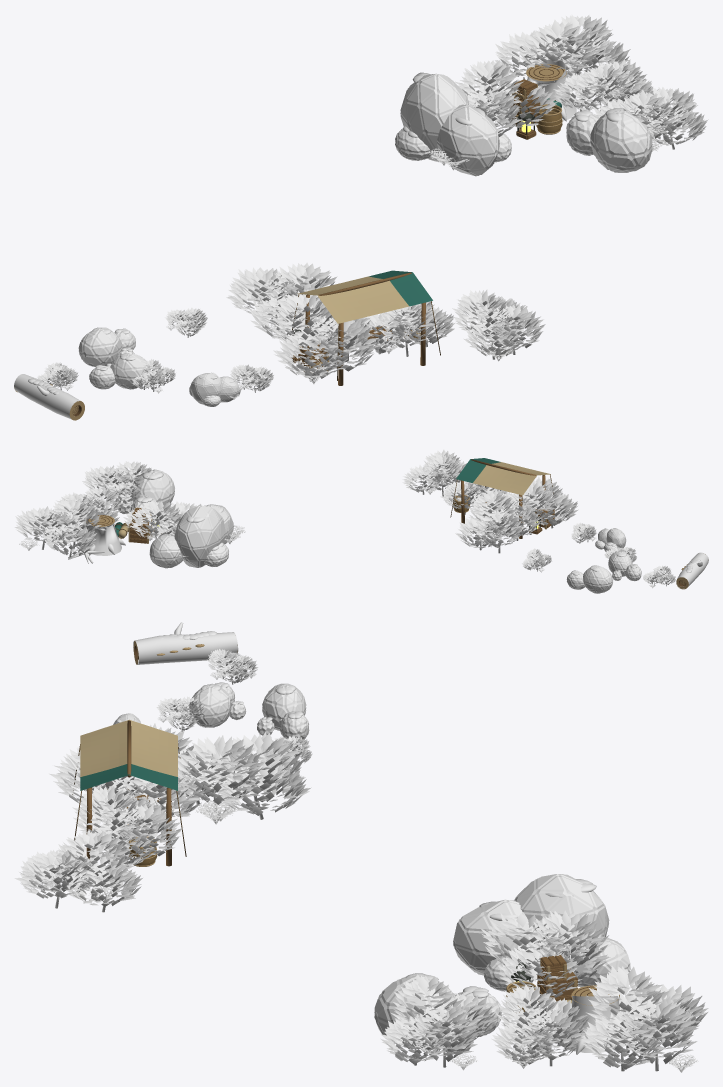
The model's file is SM_DF_Explorer_2_1_Macro.fbx.
The picture shows the model from 3 angles, top to bottom: view 1: azimuth 30°, elevation 25°; view 2: azimuth 150°, elevation 25°; view 3: azimuth 270°, elevation 25°; orthographic projection. The views are drawn at different scales.
Parts seen in each view (by area): view 1: SM_DF_Explorer_2_1_Macro; view 2: SM_DF_Explorer_2_1_Macro; view 3: SM_DF_Explorer_2_1_Macro.
Part boxes in pixels (x1,y1,x2,y2): SM_DF_Explorer_2_1_Macro: [14, 14, 708, 420]; SM_DF_Explorer_2_1_Macro: [14, 449, 708, 593]; SM_DF_Explorer_2_1_Macro: [14, 622, 708, 1072].
Size of the model in its own units: 2888 by 1877 by 342.
